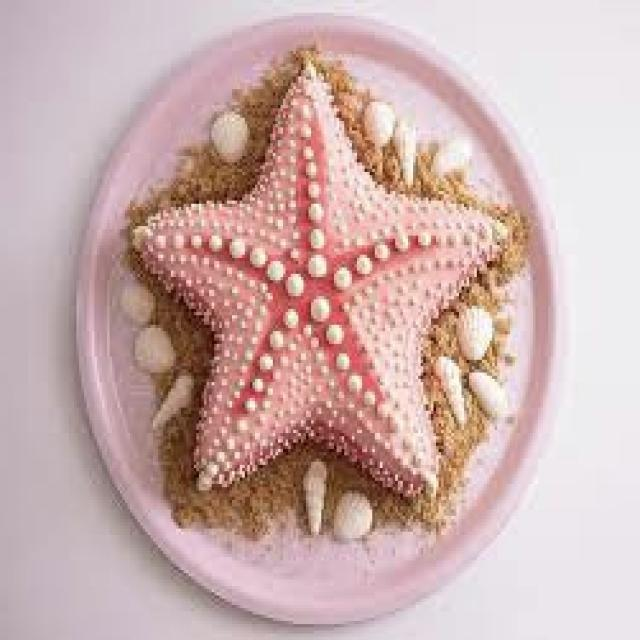starfish: (138, 64, 500, 490)
